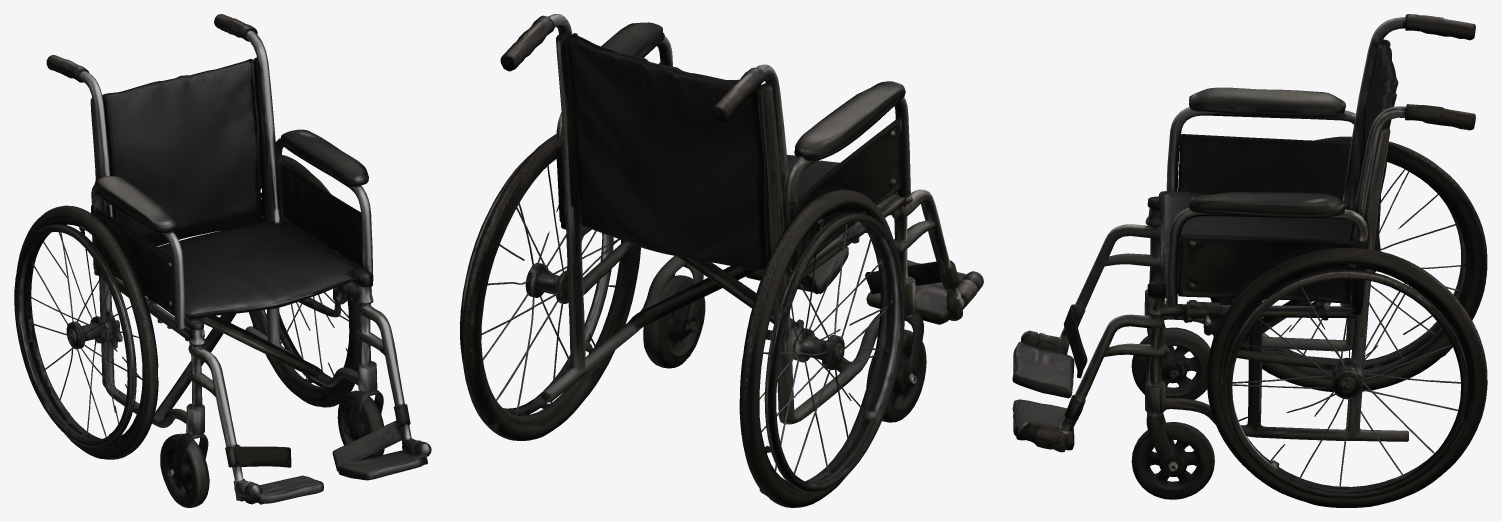
File: wheelchair.fbx
The picture shows the model from 3 angles, left to right: view 1: azimuth 30°, elevation 25°; view 2: azimuth 150°, elevation 25°; view 3: azimuth 270°, elevation 25°; orthographic projection. The views are drawn at different scales.
Parts seen in each view (by area): view 1: tripo_node_700b4121; view 2: tripo_node_700b4121; view 3: tripo_node_700b4121.
Boxes of the visible parts, x1=… form: tripo_node_700b4121: x1=14, y1=14, x2=431, y2=507; tripo_node_700b4121: x1=460, y1=14, x2=983, y2=507; tripo_node_700b4121: x1=1012, y1=14, x2=1487, y2=507.
Bounding box in the file's own units: 65.94 × 97.97 × 89.01.
1 material, 1 textured.
